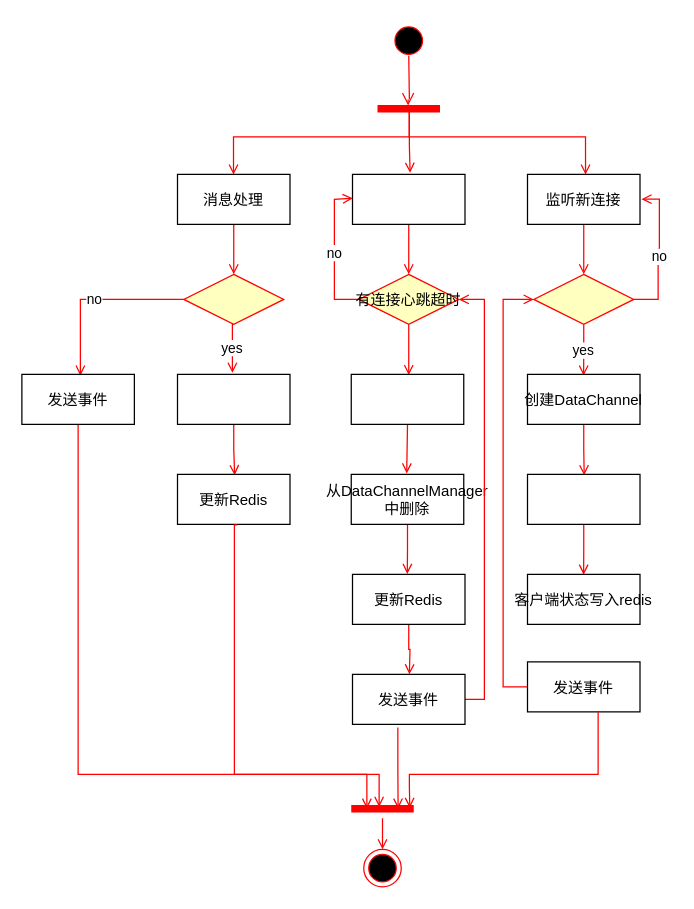
Some shapes in this 694 by 909 pixel diagram are drawn without their labels. The box of each missing label's shape, as (x1, y1, x2, y2) in pixels:
关闭DataChannel: (350, 373, 464, 424)
存入DataChannelManager: (526, 473, 640, 524)
心跳消息: (182, 273, 284, 324)
心跳过期检测: (351, 173, 465, 224)
更新DataChannel状态: (176, 373, 290, 424)
有新连接: (532, 273, 634, 324)
